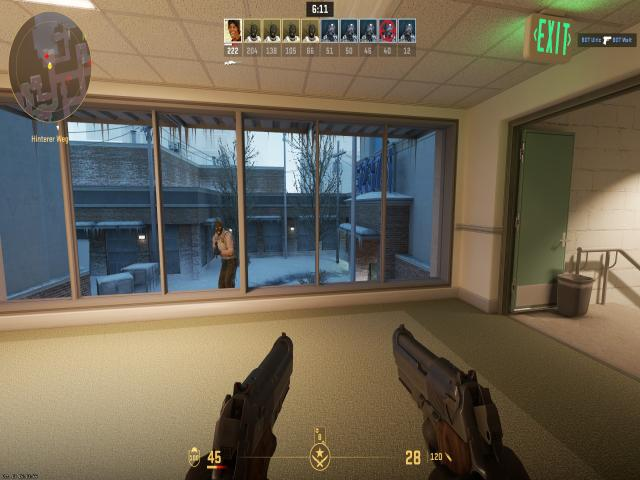T: (212, 218, 237, 288)
T-Head: (215, 221, 224, 235)
